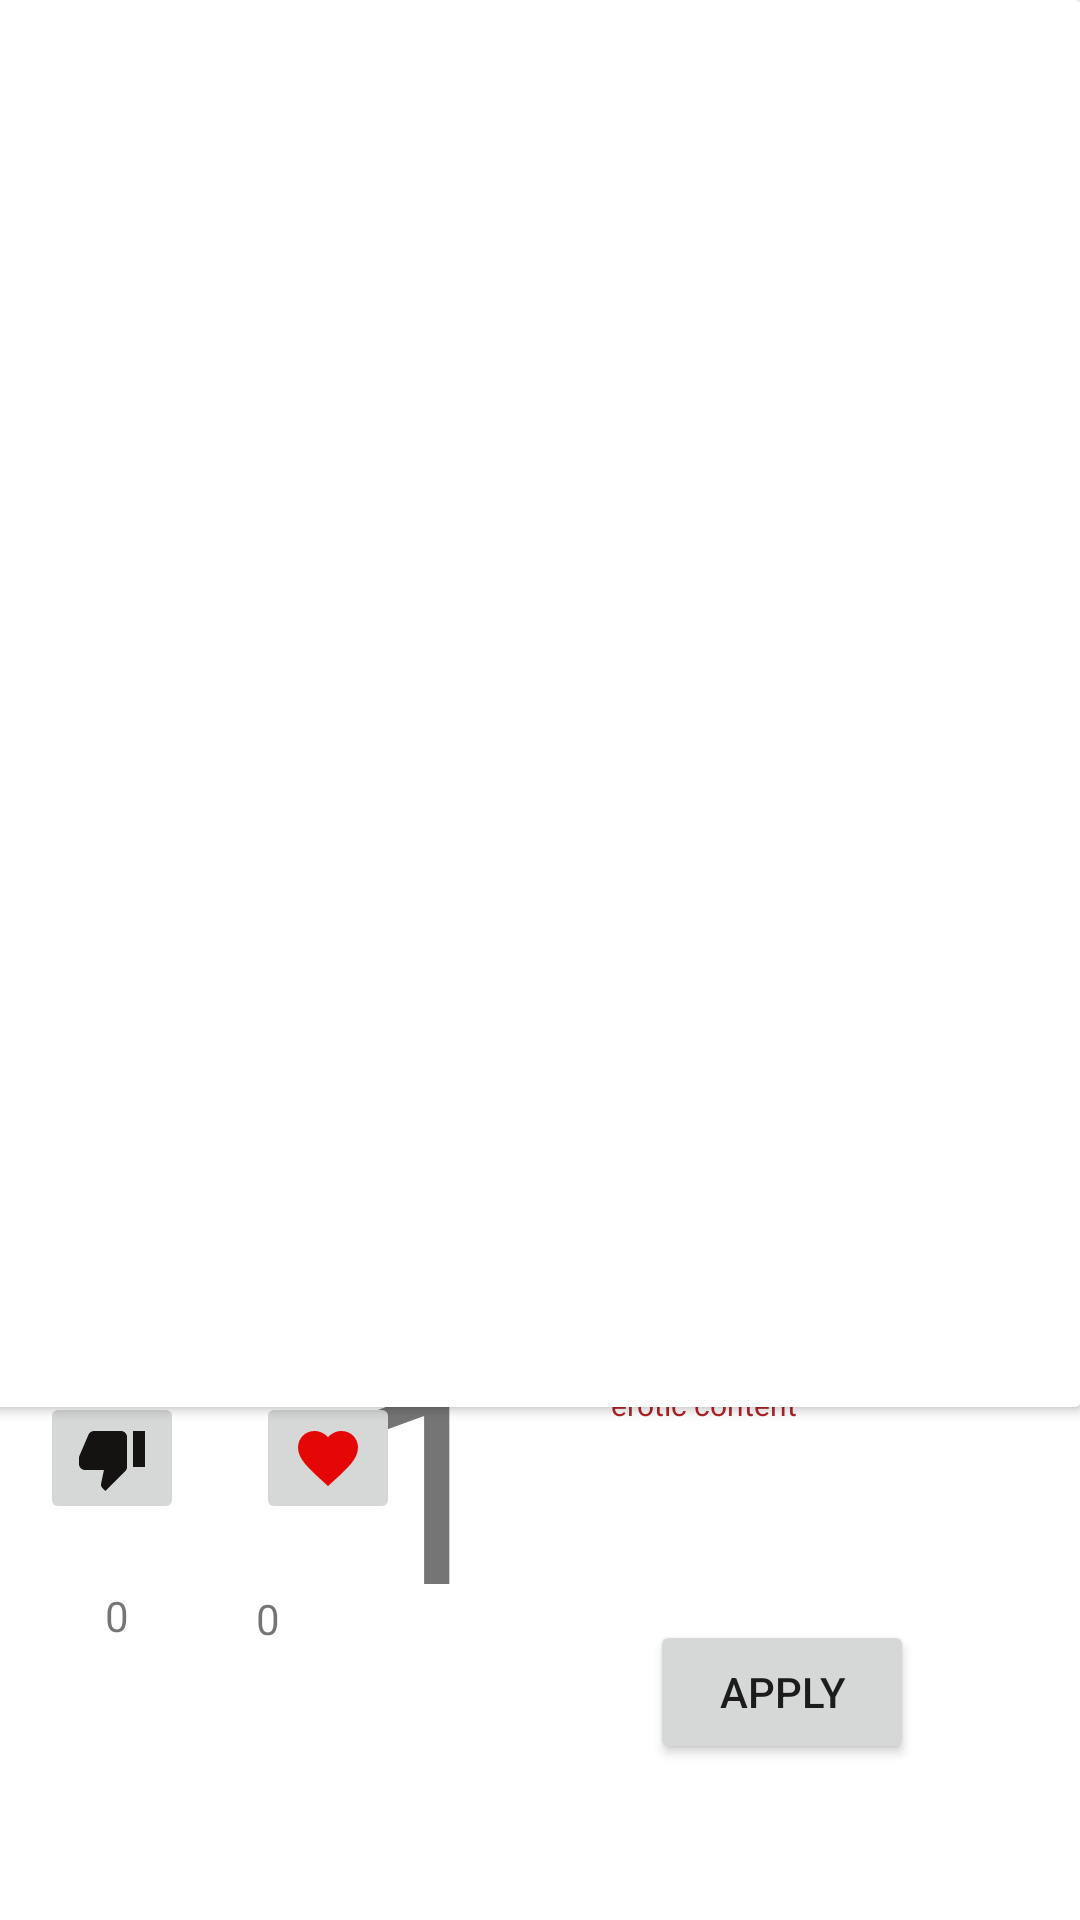

Point at icon controls on the screen. Image size 1080 × 1920, points as (x,y).
favorite: (328,1456)
thumb down: (112,1456)
